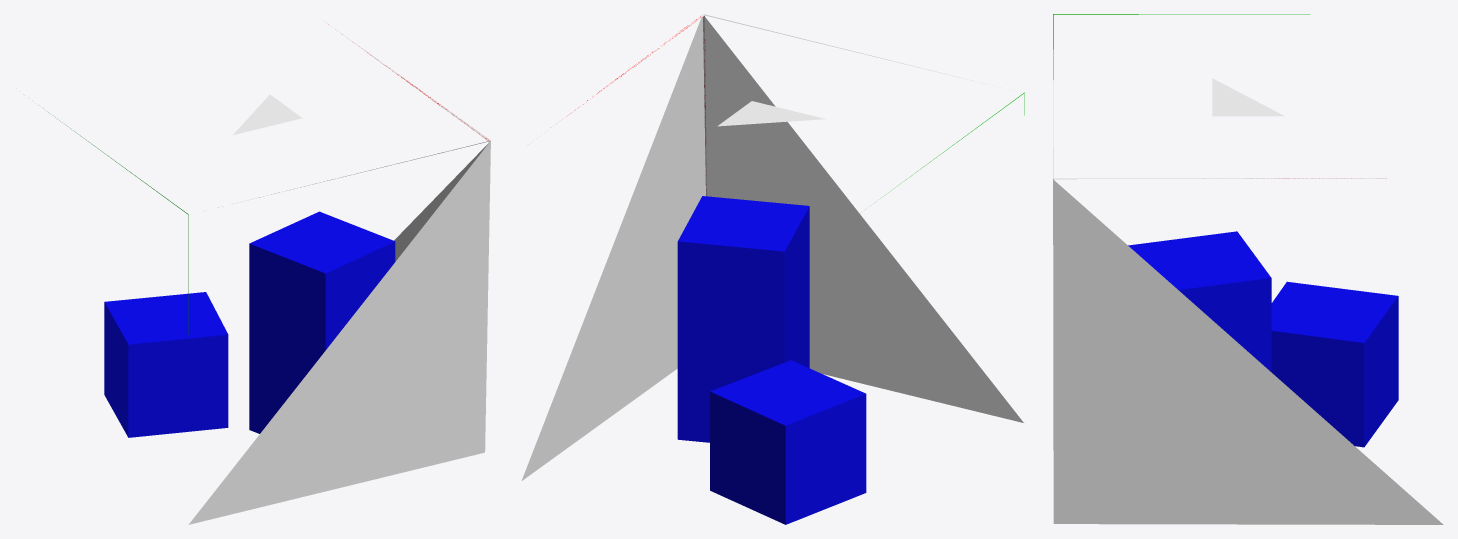
Rendered from cornell_box.obj.
3 renders of one model, left to right at view 1: azimuth 30°, elevation 25°; view 2: azimuth 150°, elevation 25°; view 3: azimuth 270°, elevation 25°, orthographic. The views are drawn at different scales.
Visible parts, largest first — view 1: floor, tall_block, short_block, light; view 2: floor, tall_block, short_block, light, ceiling; view 3: floor, short_block, tall_block, light, ceiling.
Boxes of the visible parts, box(x1,y1,x2,y2) form: floor: box(188, 141, 490, 524); tall_block: box(249, 211, 395, 433); short_block: box(104, 292, 228, 437); light: box(233, 94, 302, 135); floor: box(521, 17, 1023, 480); tall_block: box(677, 196, 809, 442); short_block: box(710, 360, 866, 524); light: box(717, 101, 826, 126); ceiling: box(529, 14, 986, 143); floor: box(1053, 179, 1443, 524); short_block: box(1271, 281, 1398, 447); tall_block: box(1128, 231, 1271, 371); light: box(1212, 78, 1284, 116); ceiling: box(1053, 50, 1386, 179).
Size of the model in its own units: 560 by 550 by 560.
